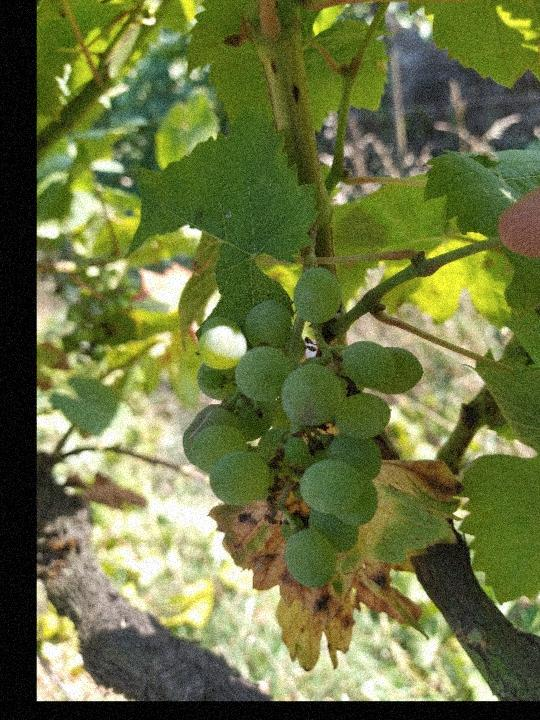grape: (179, 262, 427, 594)
